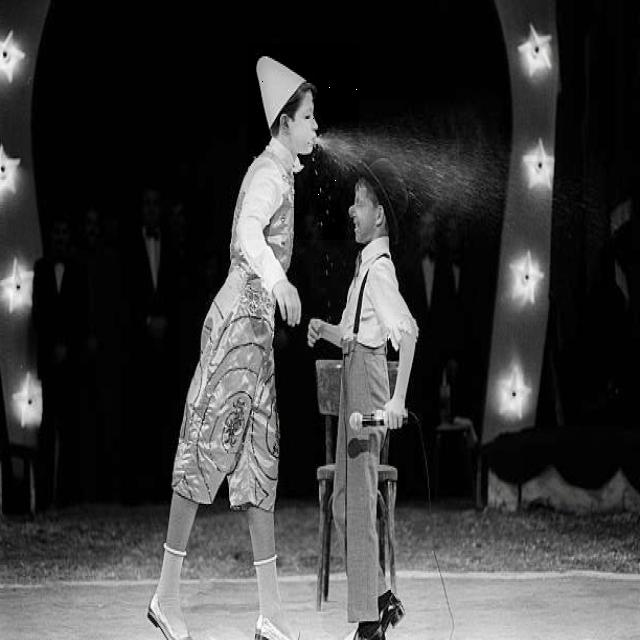Spitting: (247, 44, 359, 240)
